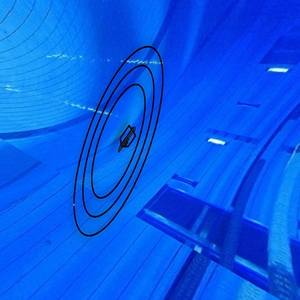circle: (71, 41, 167, 242)
submarine: (114, 122, 141, 157)
